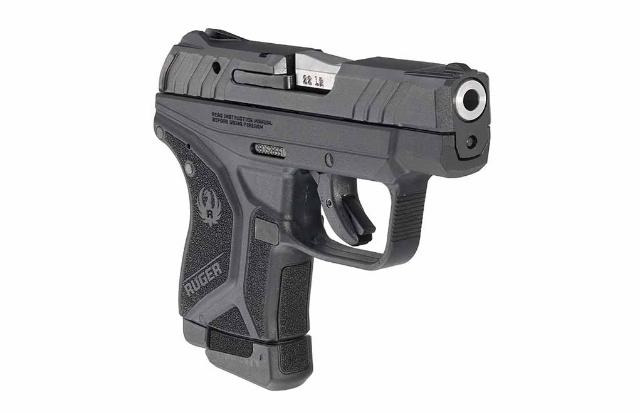handgun: (147, 22, 496, 395)
